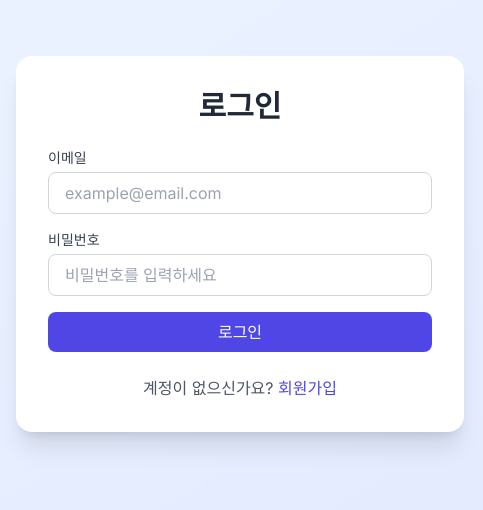
Test: LoginPage › Error handling › should display error message when login fails
This screenshot has width=483, height=510.
Type "test@example.com" into the field labelled "이메일" at (240, 193), box [48, 172, 432, 214]
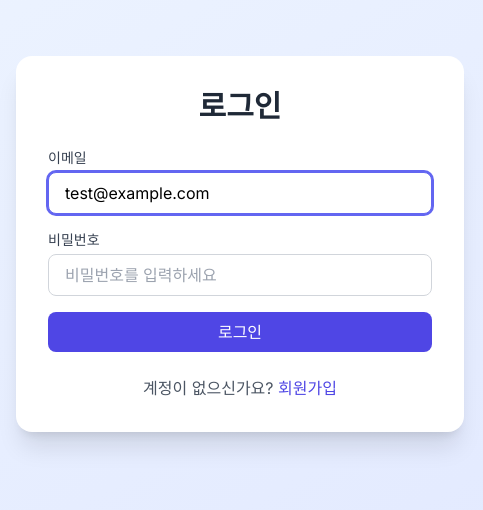
Type "wrongpassword" into the password field labelled "비밀번호" at (240, 275), box [48, 254, 432, 296]
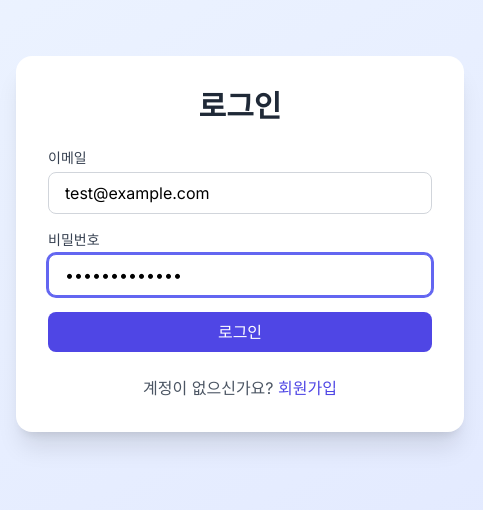
Click the button "로그인" at (240, 332), box [48, 312, 432, 352]
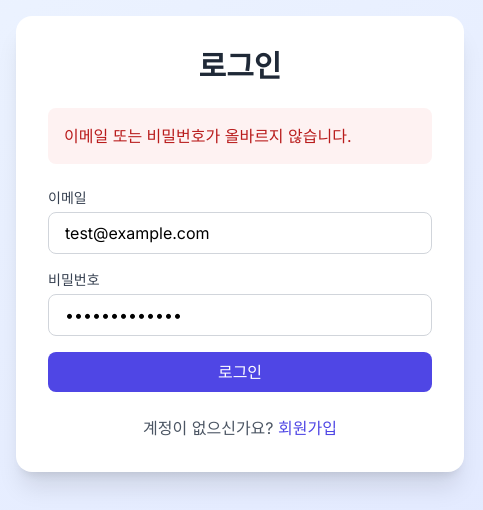
Result: the text "이메일 또는 비밀번호가 올바르지 않습니다." is shown at [48, 108, 432, 164]
